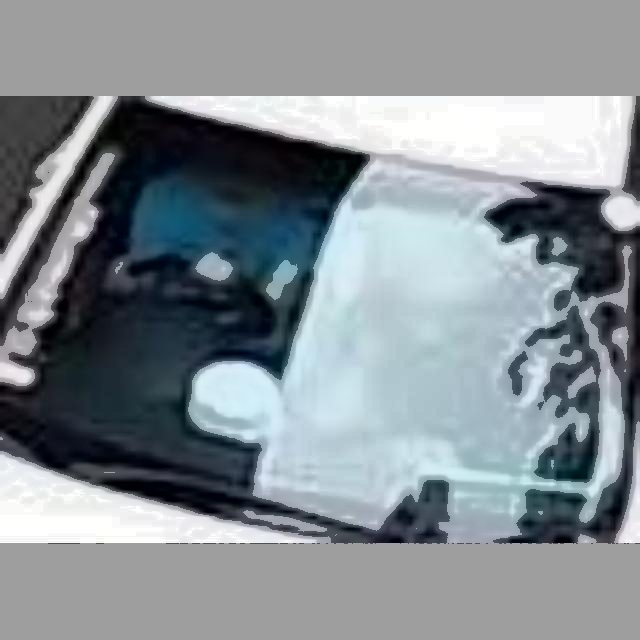tidak-pakai: (119, 164, 306, 328)
